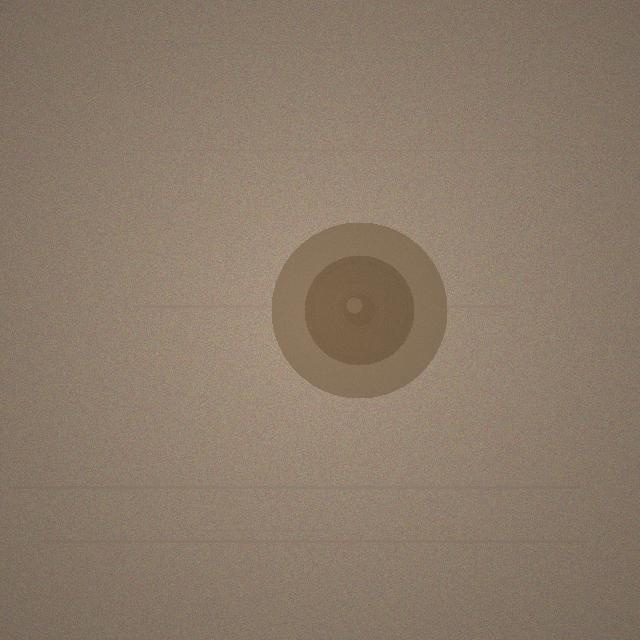good: (271, 222, 447, 398)
